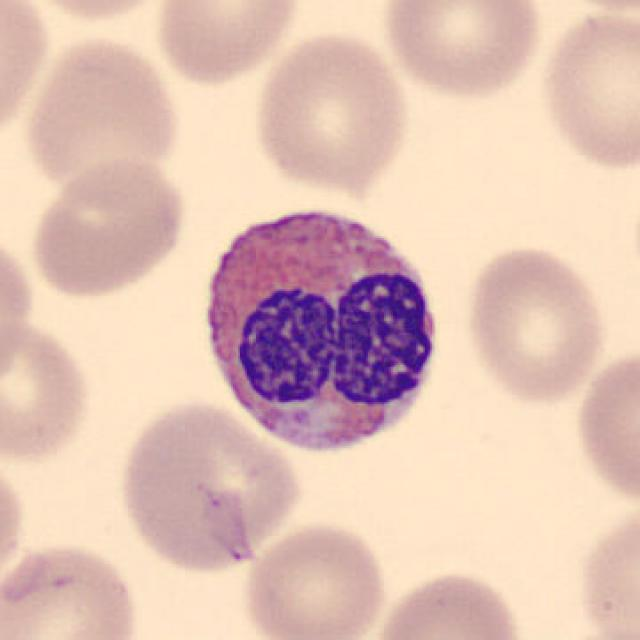Eosinophil: (187, 187, 453, 467)
RBC: (110, 395, 304, 576), (247, 27, 414, 200), (19, 30, 185, 197), (461, 242, 612, 406), (25, 154, 190, 302), (238, 518, 389, 640), (378, 0, 546, 104), (535, 7, 638, 176), (0, 537, 146, 640), (0, 314, 96, 469), (150, 0, 302, 88), (368, 566, 530, 640), (570, 342, 640, 513), (572, 499, 638, 640), (0, 0, 53, 151), (0, 220, 37, 391), (15, 0, 182, 28), (0, 446, 30, 598), (535, 622, 640, 640), (535, 0, 640, 16)
